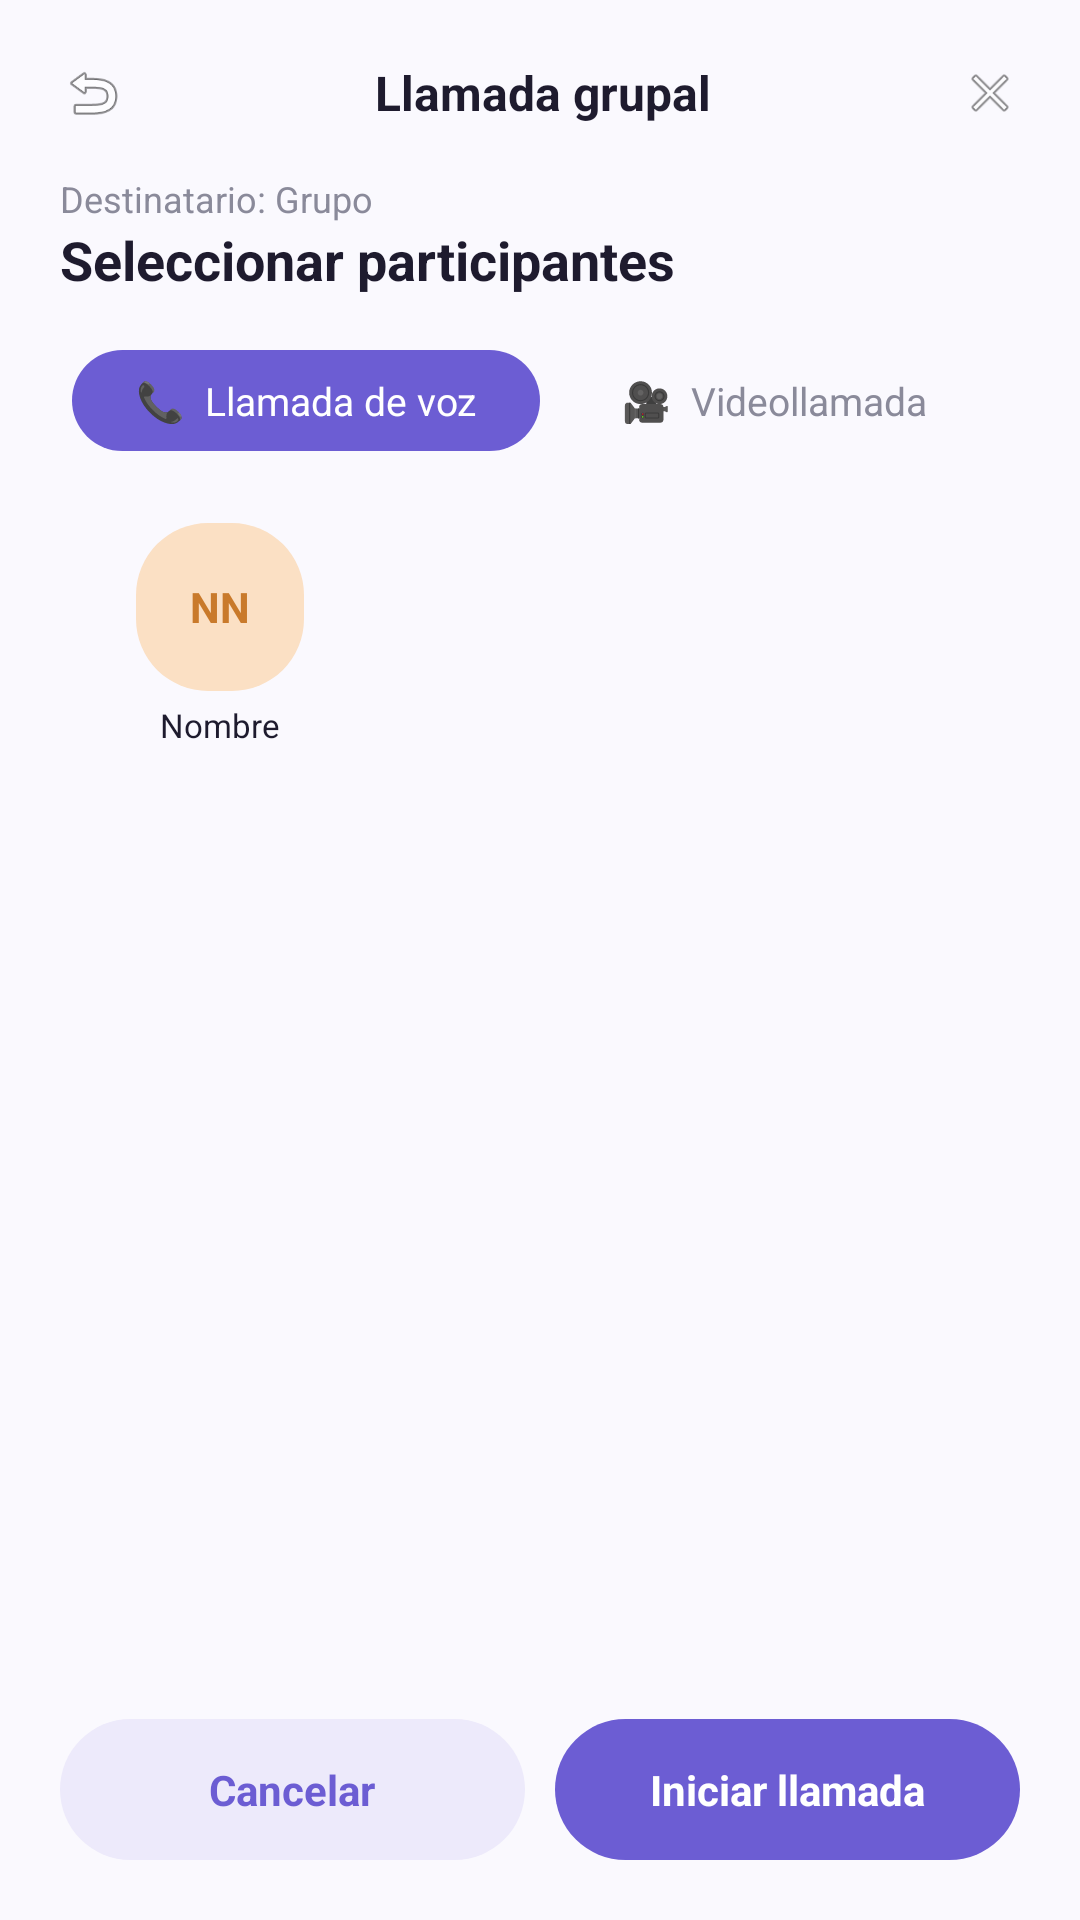

Named icons in this screenshot (1080 × 1920) and their centers, [x,y]:
Cerrar: [990,93]
Regresar: [94,93]
